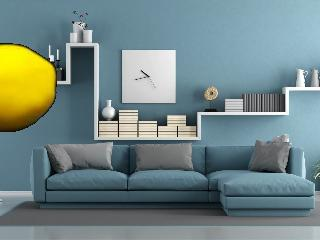lemon: (2, 46, 57, 133)
